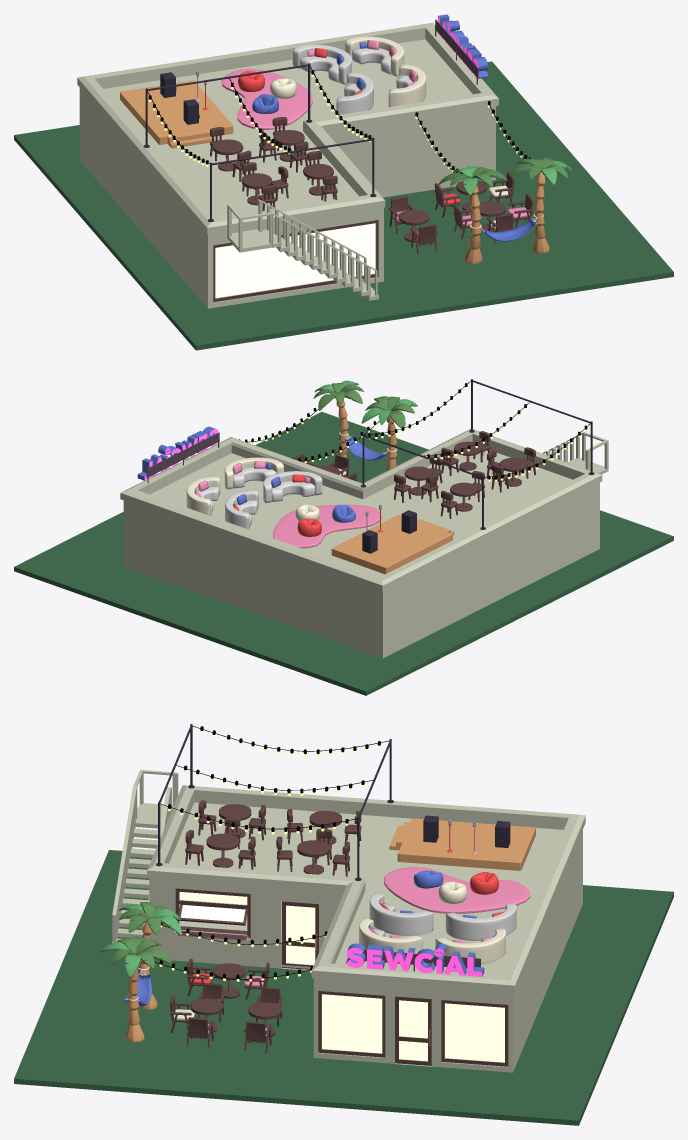
Rendered from sewcial-exterior-a.gltf.
The picture shows the model from 3 angles, top to bottom: view 1: azimuth 30°, elevation 25°; view 2: azimuth 150°, elevation 25°; view 3: azimuth 270°, elevation 25°; orthographic projection. The views are drawn at different scales.
Visible parts, largest first — view 1: Ground, Ceiling, Wall, Stage, Stairs, Carpet.001, OutdoorSofa.001, OutdoorSofa.002, StairsTop, SewcialSignboard, Cube.051, PalmTree.001 (+9 smaller); view 2: Wall, Ground, Ceiling, Stage, Carpet.001, OutdoorSofa.001, OutdoorSofa.002, SewcialSignboard, Cube.047, Cube.051, StairsTop, Cube.035 (+1 smaller); view 3: Ground, Wall, Ceiling, Stage, Stairs, Carpet.001, OutdoorSofa.001, SewcialSignboard, OutdoorSofa.002, StairsTop, PalmTree, RoofSeat.001 (+2 smaller).
Part boxes in pixels (x1,y1,x2,y2): Ground: [14, 61, 673, 350]; Ceiling: [77, 22, 498, 234]; Wall: [79, 88, 495, 308]; Stage: [120, 80, 233, 148]; Stairs: [260, 200, 378, 300]; Carpet.001: [221, 69, 312, 129]; OutdoorSofa.001: [292, 44, 373, 114]; OutdoorSofa.002: [345, 36, 426, 107]; StairsTop: [227, 199, 271, 252]; SewcialSignboard: [436, 14, 488, 78]; Cube.051: [352, 48, 416, 88]; PalmTree.001: [464, 186, 482, 263]; Wall: [123, 482, 599, 658]; Ground: [14, 411, 673, 695]; Ceiling: [120, 429, 602, 591]; Stage: [331, 515, 454, 574]; Carpet.001: [273, 504, 381, 548]; OutdoorSofa.001: [225, 471, 322, 529]; OutdoorSofa.002: [186, 457, 283, 515]; SewcialSignboard: [137, 426, 218, 480]; Cube.047: [236, 480, 314, 527]; Cube.051: [197, 467, 276, 513]; StairsTop: [563, 432, 608, 474]; Cube.035: [146, 432, 219, 477]; Ground: [14, 850, 673, 1125]; Wall: [149, 830, 582, 1072]; Ceiling: [147, 785, 585, 993]; Stage: [389, 818, 535, 870]; Stairs: [112, 785, 170, 942]; Carpet.001: [384, 867, 530, 913]; OutdoorSofa.001: [369, 893, 516, 940]; SewcialSignboard: [346, 943, 484, 976]; OutdoorSofa.002: [359, 918, 505, 964]; StairsTop: [134, 770, 178, 820]; PalmTree: [125, 964, 144, 1042]; RoofSeat.001: [206, 833, 239, 867].
Bounding box in the file's own units: 5.92 × 1.62 × 6.1.
